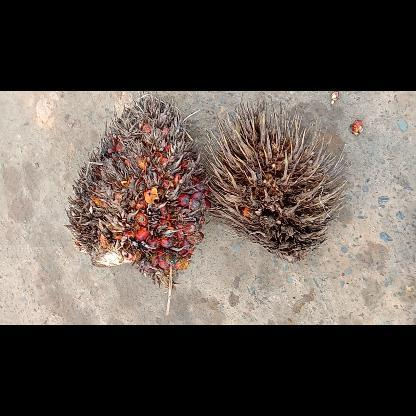Janjang kosong: (202, 97, 348, 261)
Terlalu masak: (64, 91, 209, 315)
